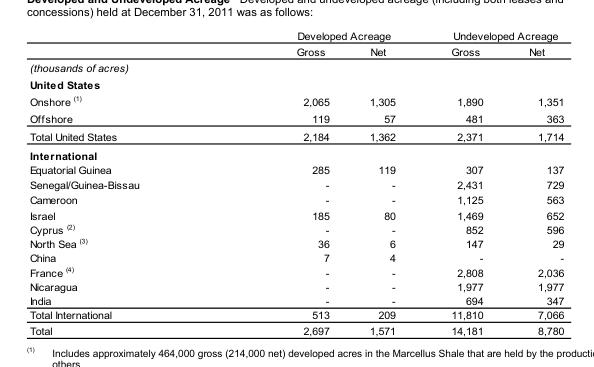table: (28, 29, 563, 336)
table column: (28, 29, 217, 336), (217, 29, 348, 336), (422, 29, 505, 336), (348, 29, 422, 336), (505, 29, 563, 336)
table column header: (28, 29, 563, 59)
table projected row header: (28, 75, 563, 92), (28, 145, 563, 162), (28, 59, 563, 75)
table row: (28, 109, 563, 127), (28, 127, 563, 145), (28, 75, 563, 92), (28, 92, 563, 109), (28, 145, 563, 162), (28, 43, 563, 59), (28, 59, 563, 75), (28, 191, 563, 207), (28, 176, 563, 191), (28, 221, 563, 236), (28, 264, 563, 279), (28, 307, 563, 322), (28, 29, 563, 43), (28, 162, 563, 176), (28, 207, 563, 221), (28, 236, 563, 250), (28, 250, 563, 264), (28, 279, 563, 293), (28, 293, 563, 307), (28, 322, 563, 336)
table spanning cell: (217, 29, 422, 43), (422, 29, 563, 43)
